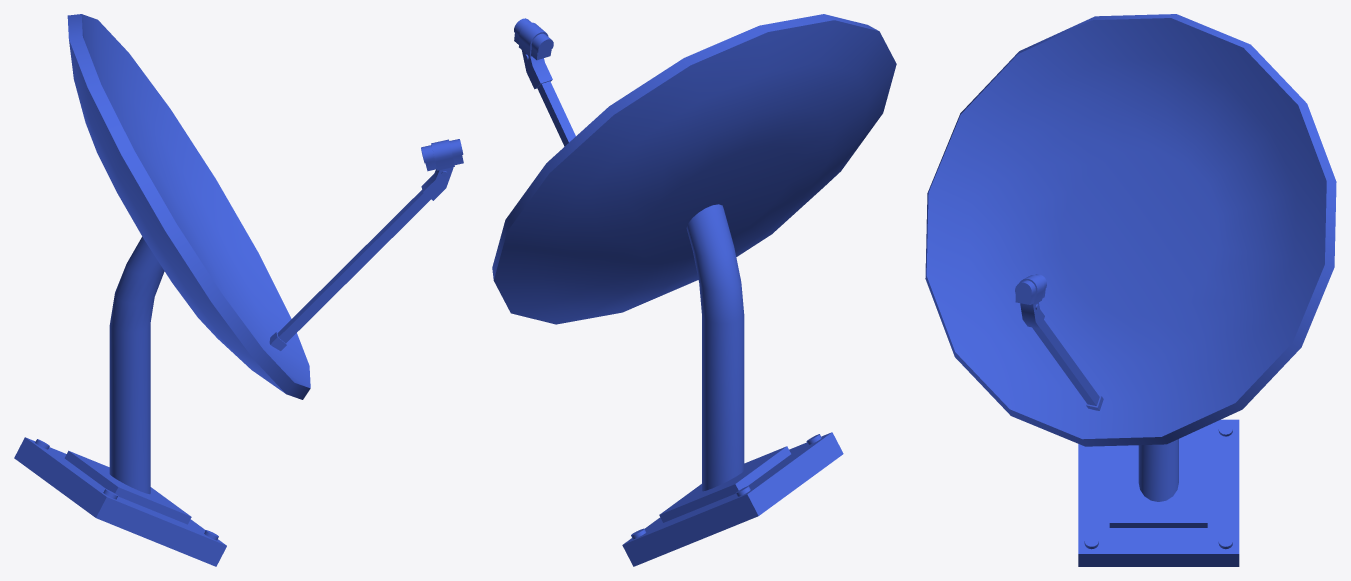
File: SmallSatellite_Final_FBX.fbx
3 renders of one model, left to right at view 1: azimuth 30°, elevation 25°; view 2: azimuth 150°, elevation 25°; view 3: azimuth 270°, elevation 25°, orthographic. The views are drawn at different scales.
Parts seen in each view (by area): view 1: Satellite Dish, Pole, Metal Base, Antenna, Antenna End; view 2: Satellite Dish, Pole, Metal Base, Antenna, Antenna End; view 3: Satellite Dish, Metal Base, Pole, Antenna, Antenna End, Screws.
Boxes of the visible parts, box(x1,y1,x2,y2) form: Satellite Dish: box(67, 14, 310, 399); Pole: box(109, 237, 164, 494); Metal Base: box(14, 437, 226, 566); Antenna: box(269, 167, 453, 350); Antenna End: box(421, 139, 463, 171); Satellite Dish: box(492, 14, 896, 324); Pole: box(686, 204, 744, 491); Metal Base: box(622, 432, 843, 566); Antenna: box(522, 50, 575, 146); Antenna End: box(514, 18, 553, 60); Satellite Dish: box(925, 14, 1336, 446); Metal Base: box(1078, 419, 1239, 566); Pole: box(1138, 439, 1178, 501); Antenna: box(1020, 302, 1103, 410); Antenna End: box(1015, 274, 1046, 304); Screws: box(1084, 422, 1232, 549).
Bounding box in the file's own units: 222 × 317 × 233.
